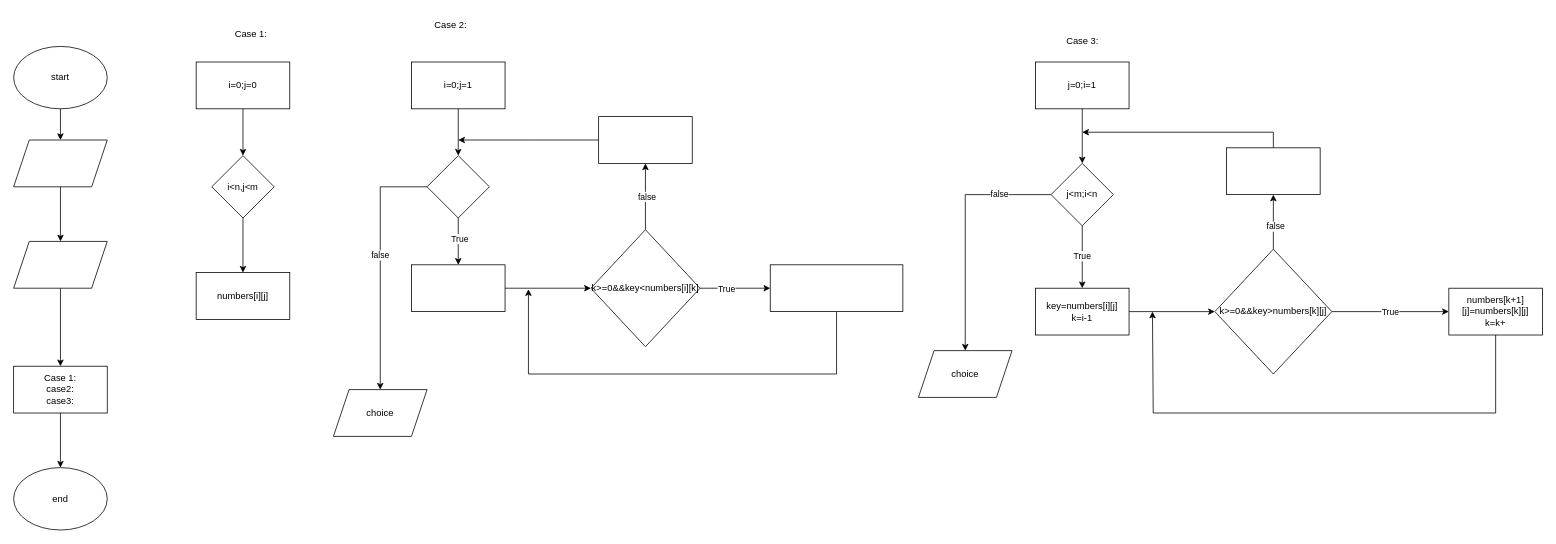
The diagram is 1556 pixels wide and 544 high, and some of its shapes have lost their labels. Here are the shapes that lost their labels. From the top down, the centre of each, then its label:
[645,139]: numbers[i][k+1]=key
[60,163]: n,m
[1273,171]: numbers[k+1][j]=key
[457,186]: i<n;j<m
[60,264]: MENU,choice
[458,288]: key=numbers[i][j] k=j-1
[836,288]: numbers[i][k+1]=numbers[i[[k] k=k-1
